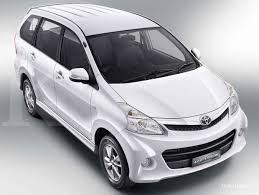mobil: (13, 2, 255, 185)
